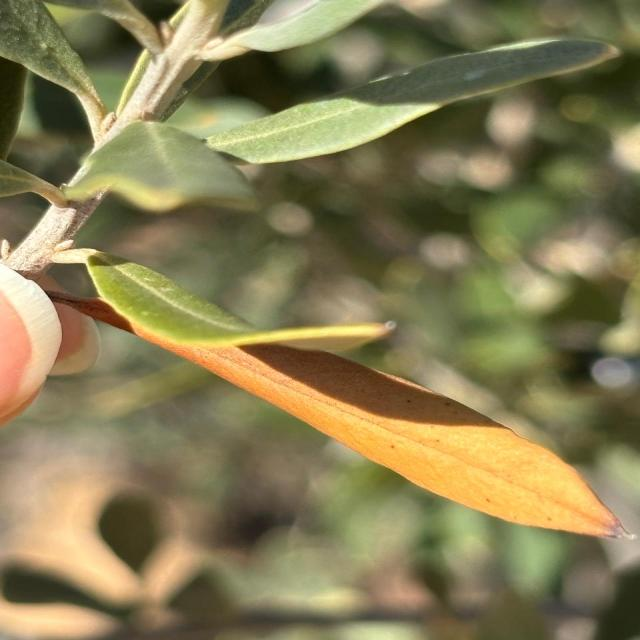Peacock Eye: (173, 343, 630, 538)
